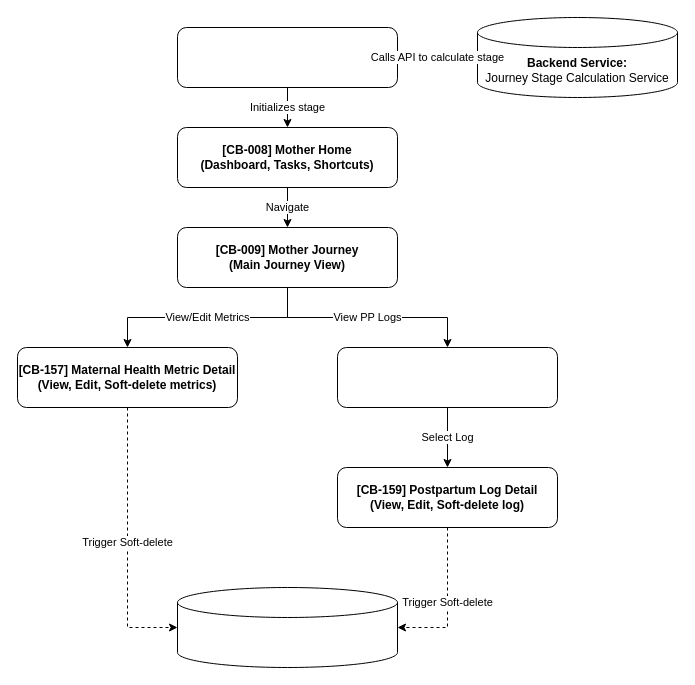
This 695x685 diagram has some shape labels left out. The box of each missing label's shape, as (x1, y1, x2, y2) in pixels:
[CB-007] Mother Journey Setup (Pre-pregnancy, Pregnancy, Postpartum): (176, 26, 398, 88)
[CB-158] Postpartum Log List (Filter by symptom/type): (336, 346, 558, 408)
Backend Service: Maternal Record Soft-Deletion Service: (176, 586, 398, 668)
